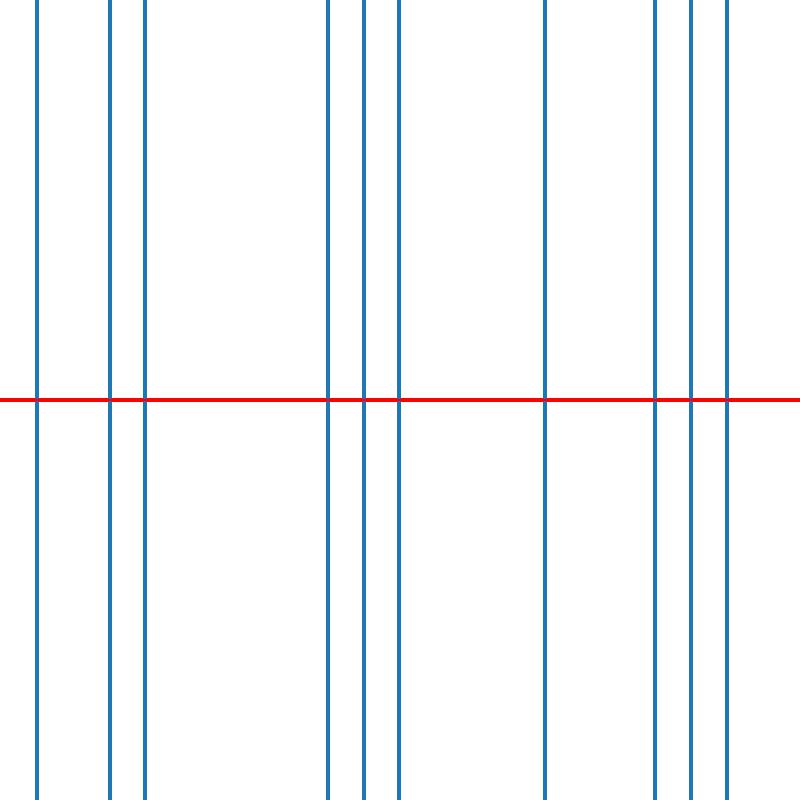root: (141, 396, 149, 404), (541, 396, 549, 404), (32, 396, 40, 404), (650, 396, 658, 404), (105, 396, 112, 404), (687, 396, 694, 404), (360, 396, 367, 404), (396, 396, 403, 404), (723, 396, 730, 404), (323, 396, 330, 404)
